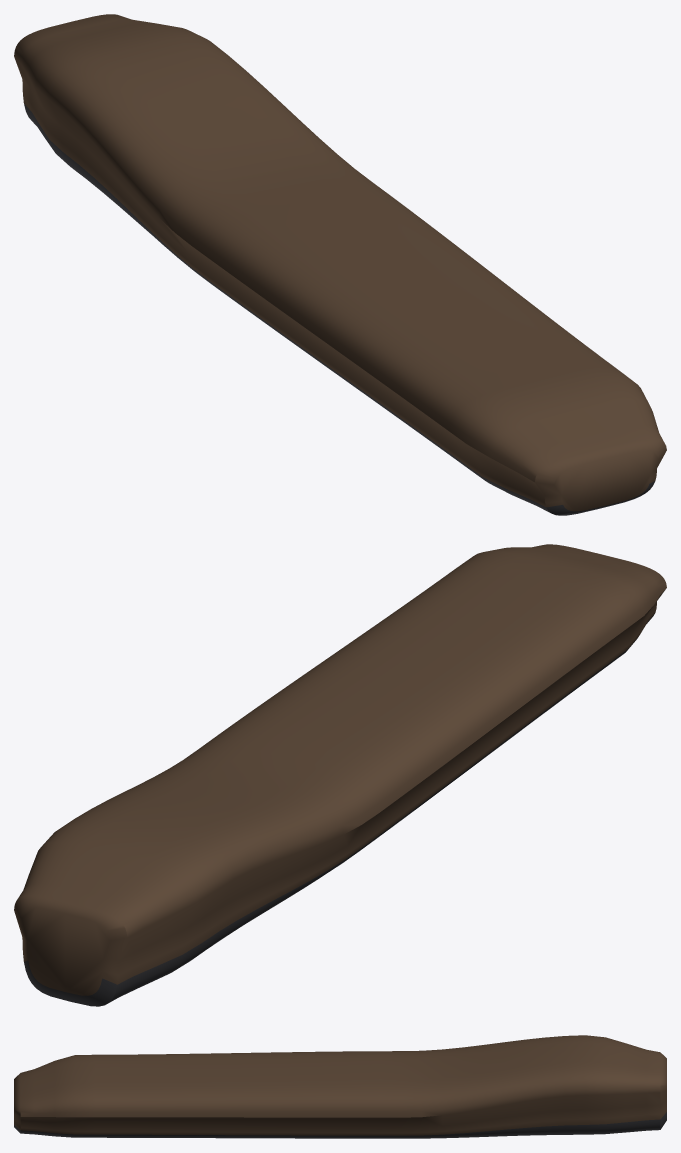
Rendered from enduro.glb.
3 views of the same model, one above another, from view 1: azimuth 30°, elevation 25°; view 2: azimuth 150°, elevation 25°; view 3: azimuth 270°, elevation 25° (orthographic). The views are drawn at different scales.
Parts seen in each view (by area): view 1: lod0; view 2: lod0; view 3: lod0.
Boxes of the visible parts, box(x1,y1,x2,y2) form: lod0: box(14, 14, 666, 515); lod0: box(14, 544, 666, 1006); lod0: box(14, 1035, 666, 1138).
Size of what is drawn, in the model's own units: 0.1996 by 0.12 by 1.
